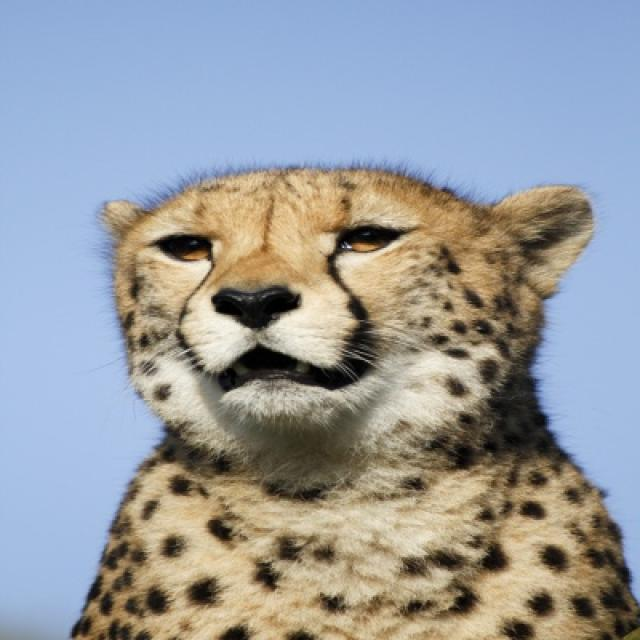Cheetah: (69, 161, 636, 638)
